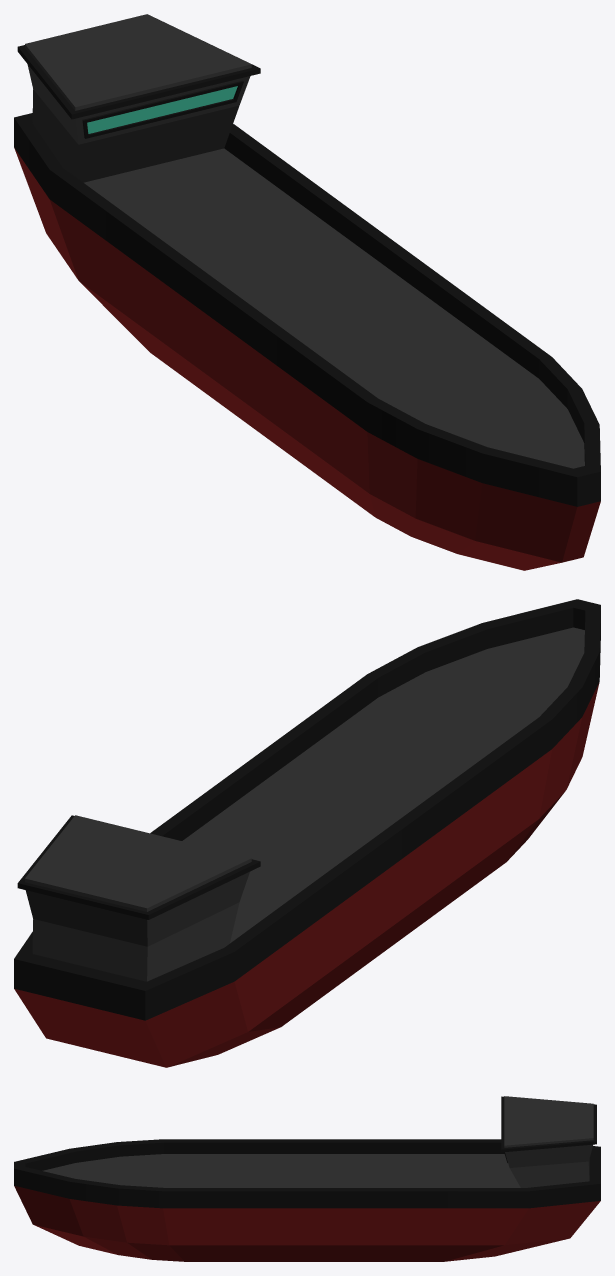
The model's file is bot.FBX.
3 views of the same model, one above another, from view 1: azimuth 30°, elevation 25°; view 2: azimuth 150°, elevation 25°; view 3: azimuth 270°, elevation 25° (orthographic). The views are drawn at different scales.
Parts seen in each view (by area): view 1: Box002; view 2: Box002; view 3: Box002.
Part boxes in pixels (box(x1,y1,x2,y2)): Box002: box(14, 14, 600, 570); Box002: box(14, 599, 600, 1067); Box002: box(14, 1096, 600, 1261).
Size of the model in its own units: 93.67 by 101 by 438.
